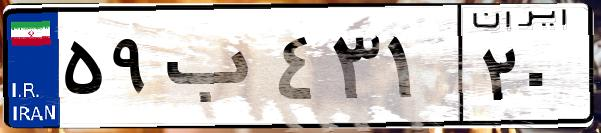0: (525, 38, 570, 115)
1: (385, 28, 445, 110)
2: (475, 38, 525, 113)
3: (330, 28, 385, 110)
4: (270, 28, 330, 110)
5: (57, 26, 110, 100)
9: (110, 28, 158, 98)
ب: (158, 20, 270, 120)
